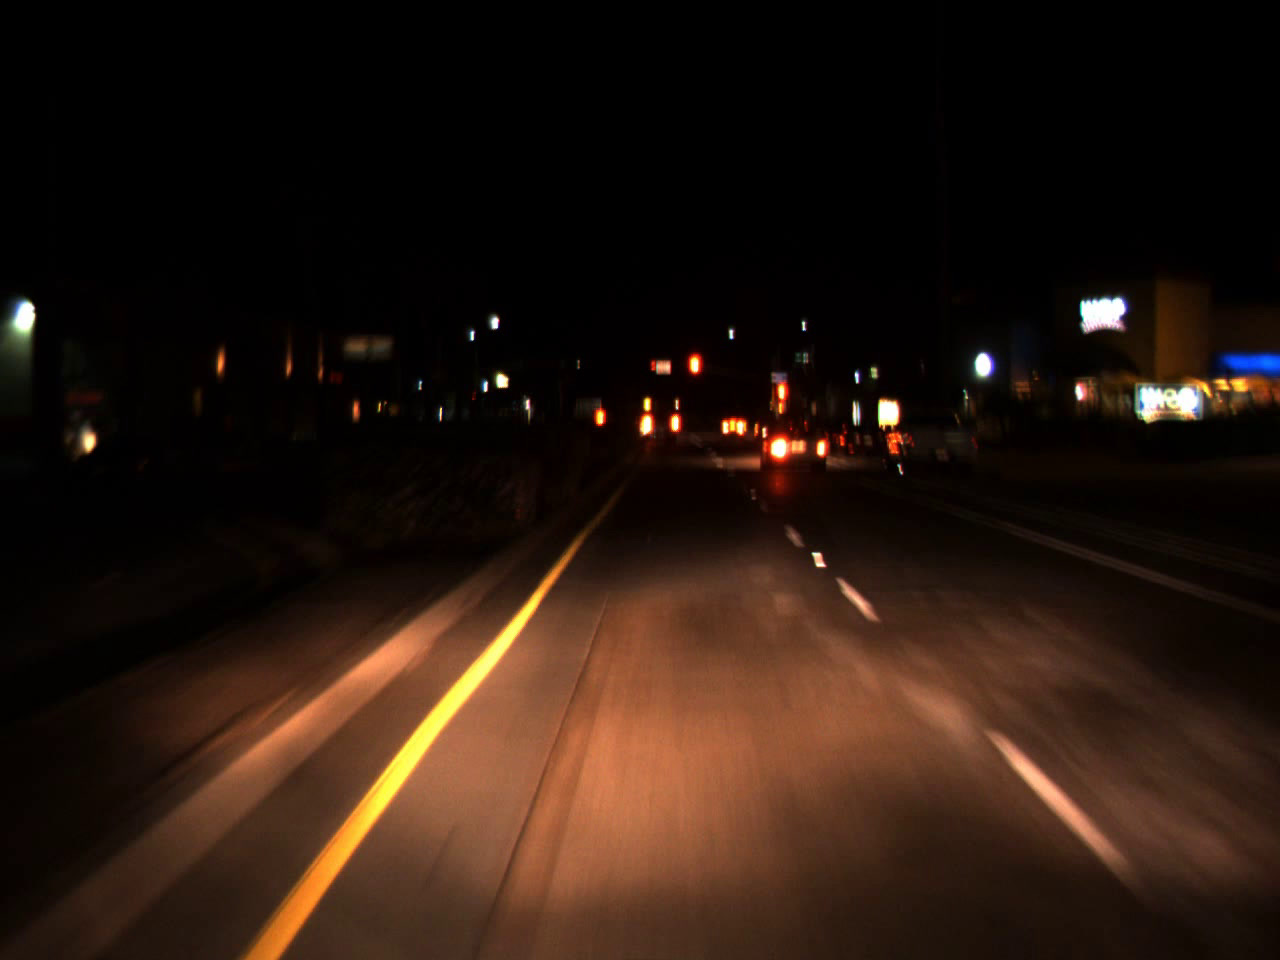stop: (771, 377, 792, 425), (686, 349, 703, 403), (650, 360, 657, 376)
